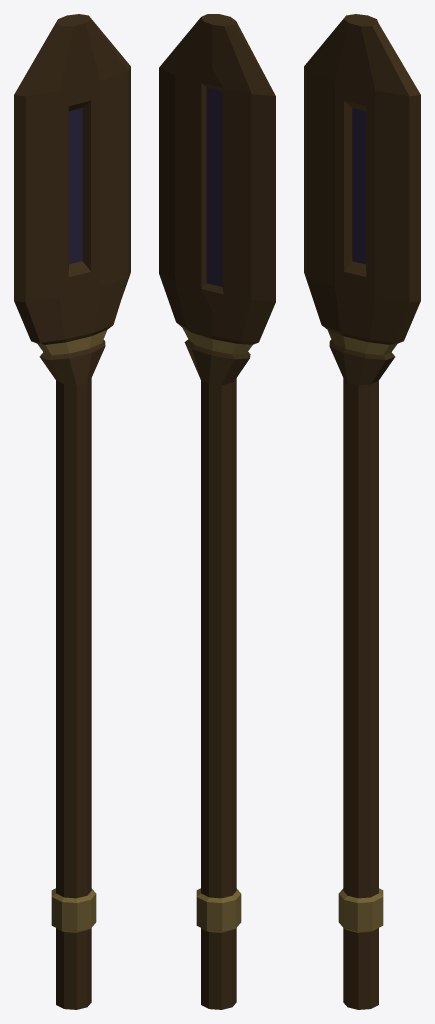
File: willow-wand.glb
3 renders of one model, left to right at view 1: azimuth 30°, elevation 25°; view 2: azimuth 150°, elevation 25°; view 3: azimuth 330°, elevation 25°, orthographic.
Visible parts, largest first — view 1: 1H - Willow Wand - Snowden; view 2: 1H - Willow Wand - Snowden; view 3: 1H - Willow Wand - Snowden.
Part boxes in pixels (<box>): 1H - Willow Wand - Snowden: <box>14,14,130,1009</box>; 1H - Willow Wand - Snowden: <box>159,14,275,1009</box>; 1H - Willow Wand - Snowden: <box>304,14,420,1009</box>.
Bounding box in the file's own units: 0.1156 × 0.9284 × 0.0381.
